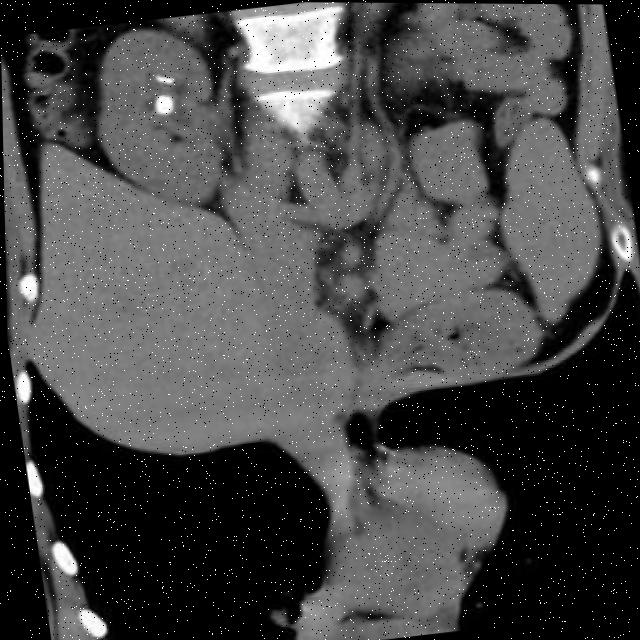Tas_Var: (152, 91, 178, 118), (154, 72, 168, 84), (166, 75, 175, 86)
